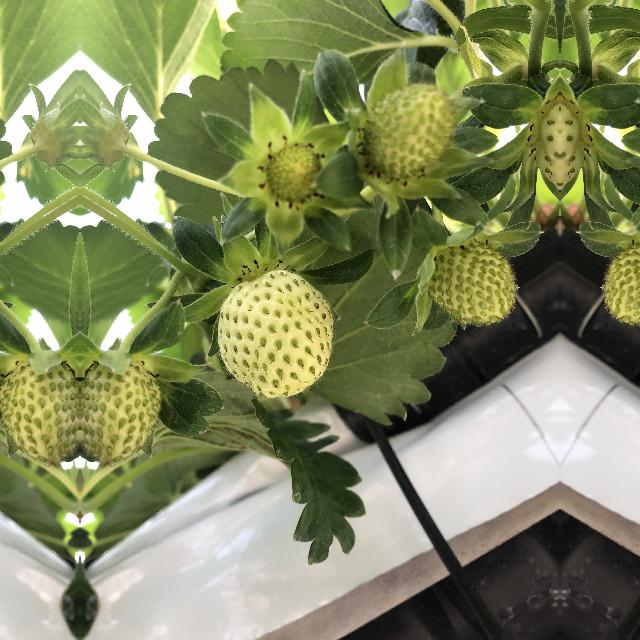Health_25: (208, 271, 346, 401), (80, 352, 160, 466), (364, 86, 451, 190), (0, 352, 80, 465), (424, 238, 520, 326), (264, 140, 320, 210), (600, 238, 640, 326)
